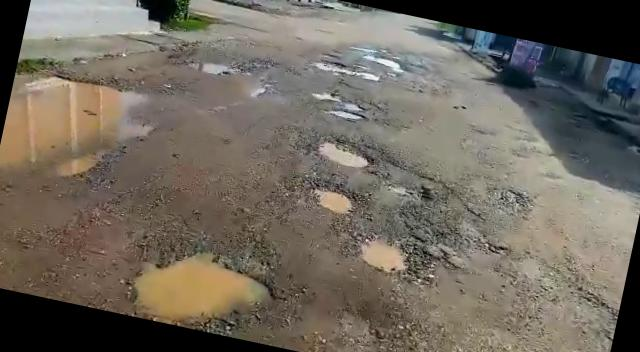pothole: (123, 233, 290, 343), (354, 230, 426, 280), (312, 134, 376, 173), (308, 182, 359, 218), (183, 50, 235, 78), (309, 56, 362, 76), (324, 106, 366, 124)
